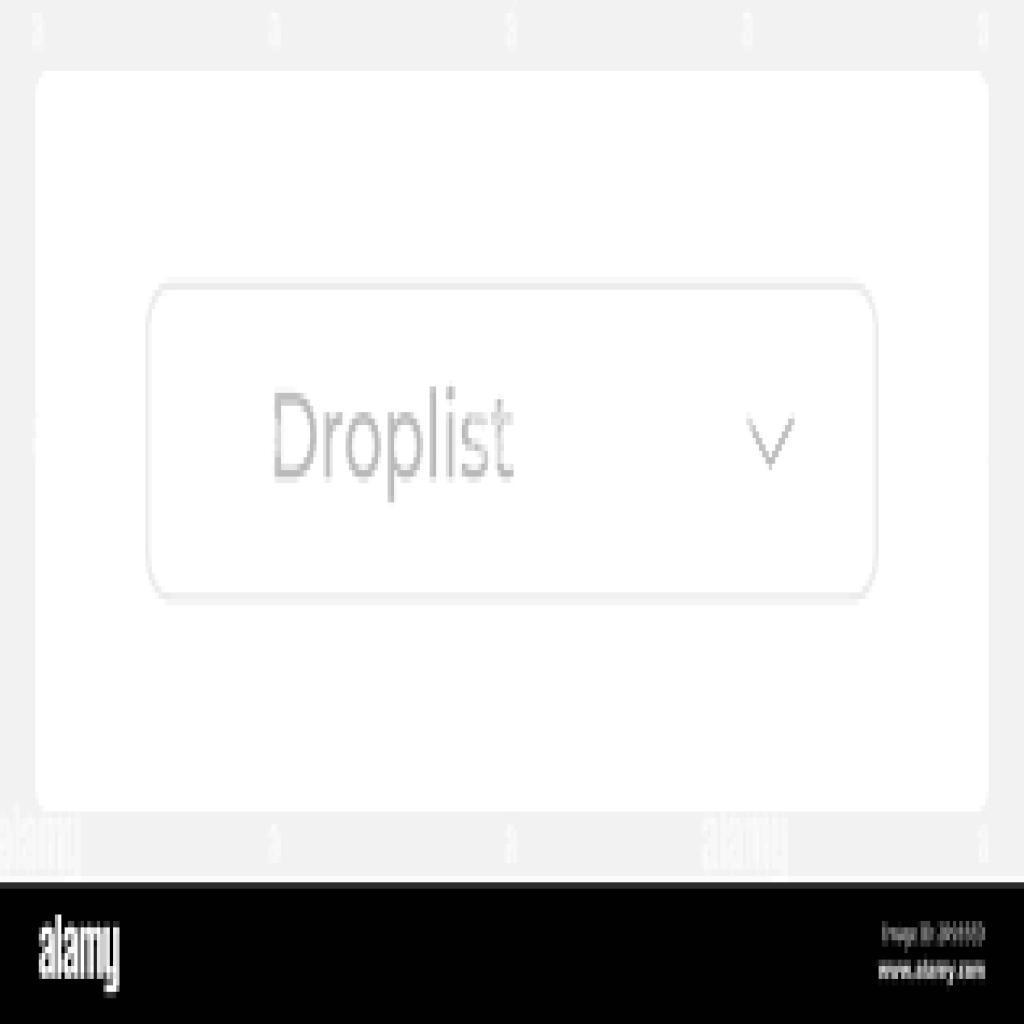dropdown: (146, 286, 879, 604)
